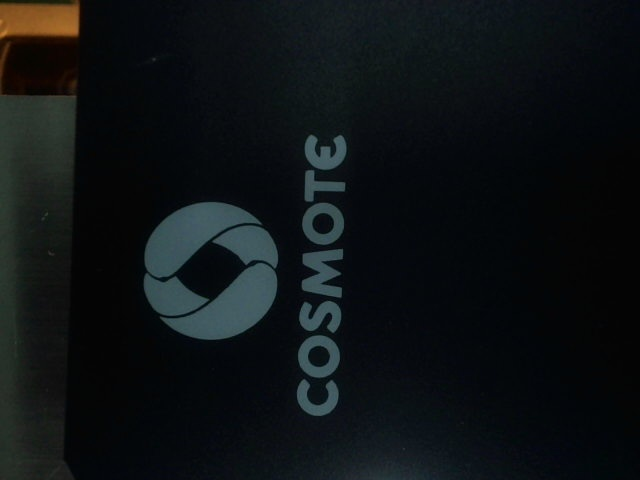AU_COSMOTE: (134, 128, 363, 418)
